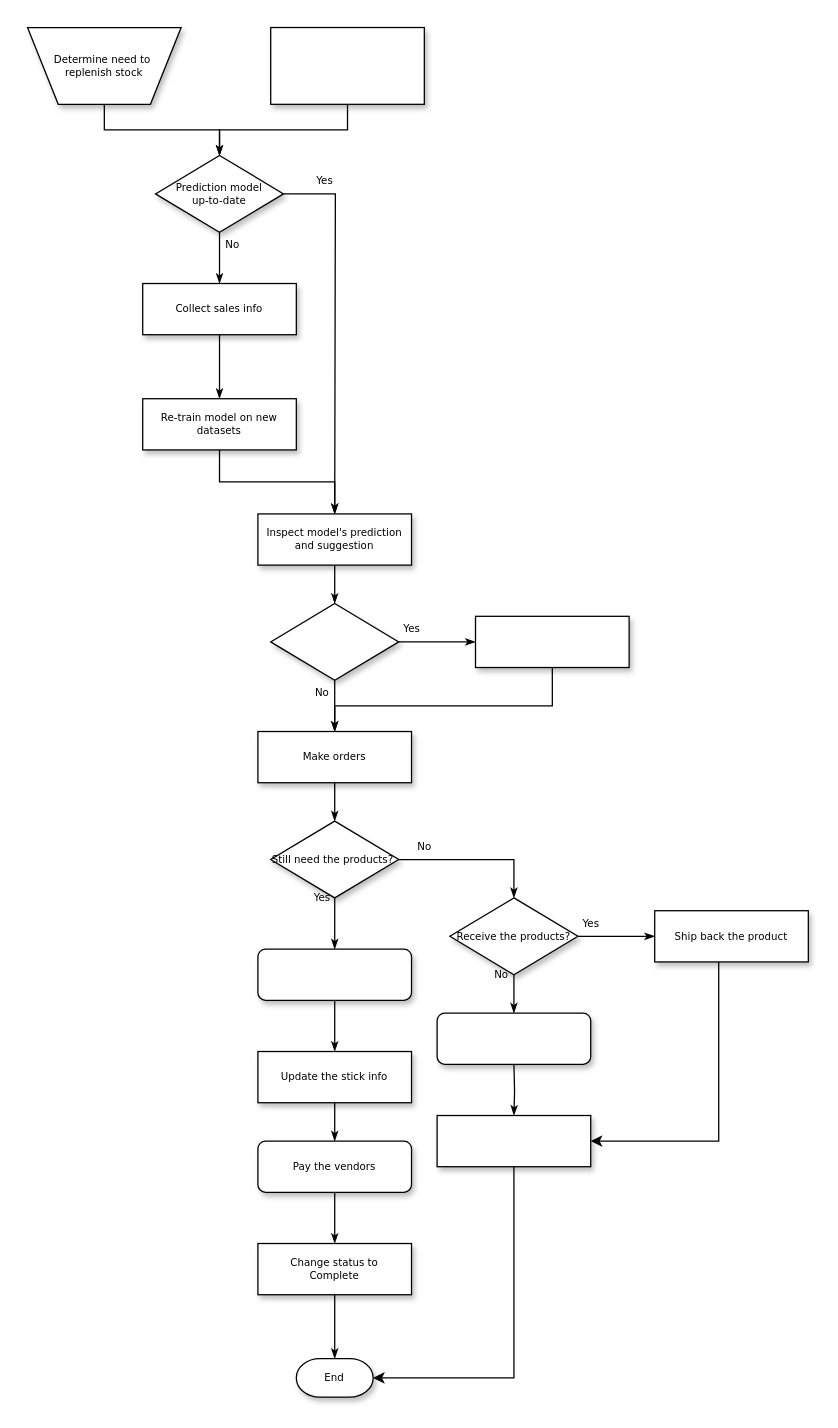
Image size: 838x1428. Some labels were removed from this diagram. Each missing label, with the centre of its shape:
Cancel the order: (514,1040)
Change orders' ids and quantities: (553,643)
Change status to Returned: (514,1142)
Need editing?: (335,643)
Order a product that requires value-add processing: (348,67)
Receive info stock: (335,976)
